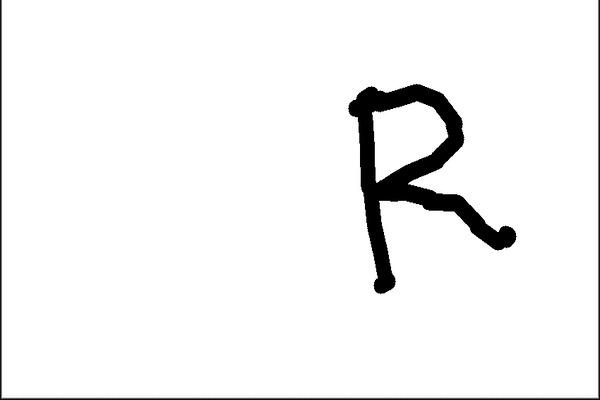R: (337, 74, 524, 299)
